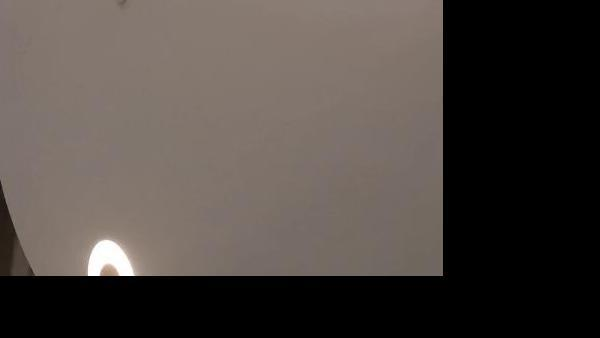light_on: (83, 226, 140, 276)
